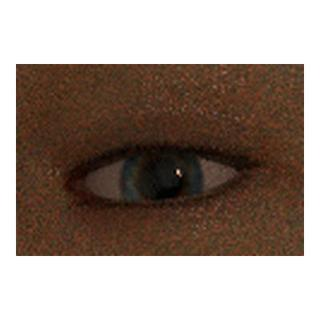pupil: (141, 160, 182, 201)
